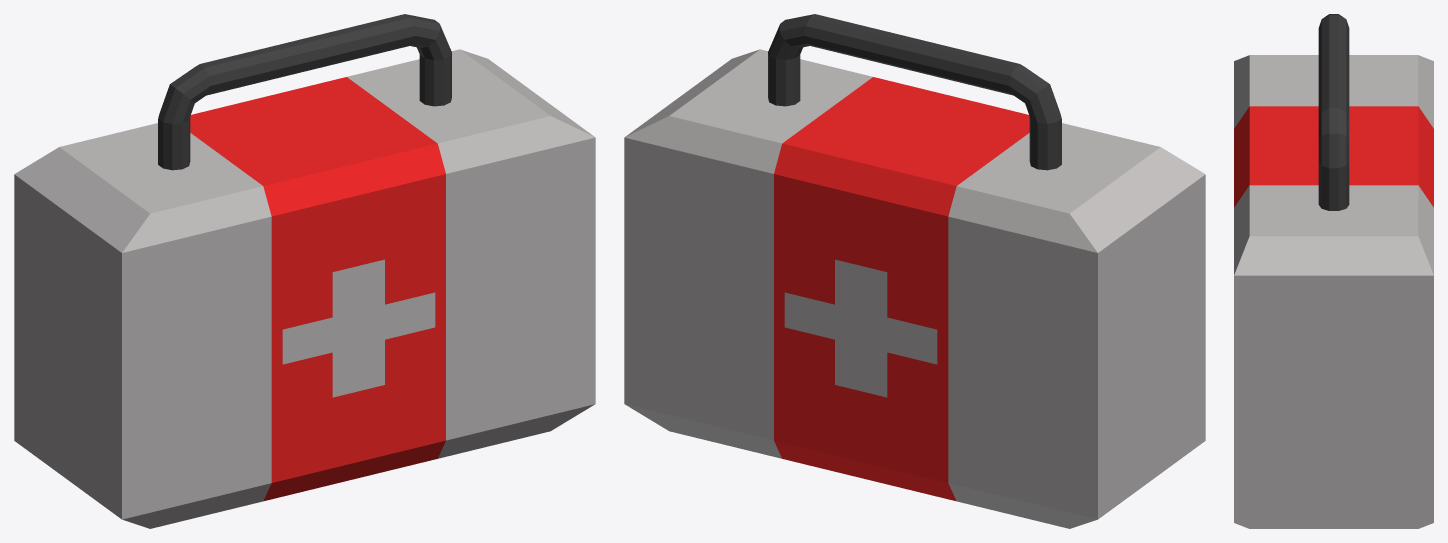
File: medkit.fbx
The picture shows the model from 3 angles, left to right: view 1: azimuth 30°, elevation 25°; view 2: azimuth 150°, elevation 25°; view 3: azimuth 270°, elevation 25°; orthographic projection. The views are drawn at different scales.
Parts seen in each view (by area): view 1: Cube; view 2: Cube; view 3: Cube.
Boxes of the visible parts, x1,y1,x2,y2 form: Cube: [14, 14, 595, 528]; Cube: [624, 14, 1205, 528]; Cube: [1234, 14, 1433, 528].
Size of the model in its own units: 83.52 by 68.4 by 32.89.
